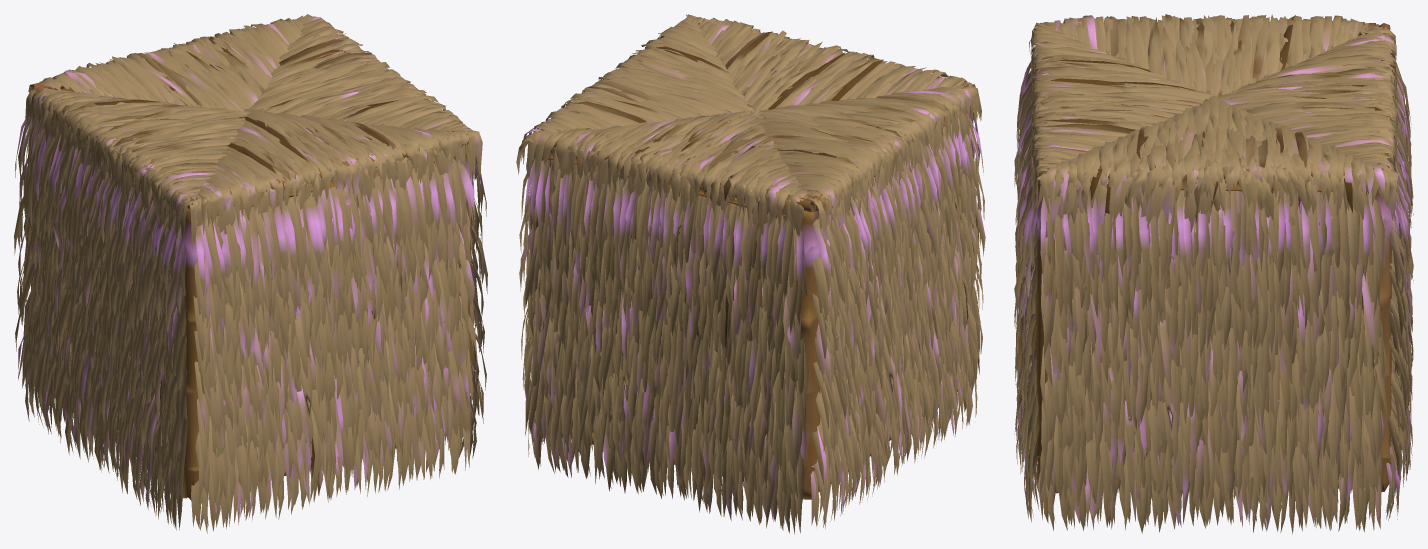
Rendered from Thatch_Floor_C.glb.
3 renders of one model, left to right at view 1: azimuth 30°, elevation 25°; view 2: azimuth 150°, elevation 25°; view 3: azimuth 270°, elevation 25°, orthographic. The views are drawn at different scales.
Visible parts, largest first — view 1: SM_Thatch_FloorSquare; view 2: SM_Thatch_FloorSquare; view 3: SM_Thatch_FloorSquare.
Part boxes in pixels (left/top/right/bottom): SM_Thatch_FloorSquare: left=14, top=14, right=487, bottom=533; SM_Thatch_FloorSquare: left=516, top=14, right=985, bottom=534; SM_Thatch_FloorSquare: left=1014, top=14, right=1413, bottom=534.
Bounding box in the file's own units: 3.43 × 3.53 × 3.43.
1 material, 1 textured.
